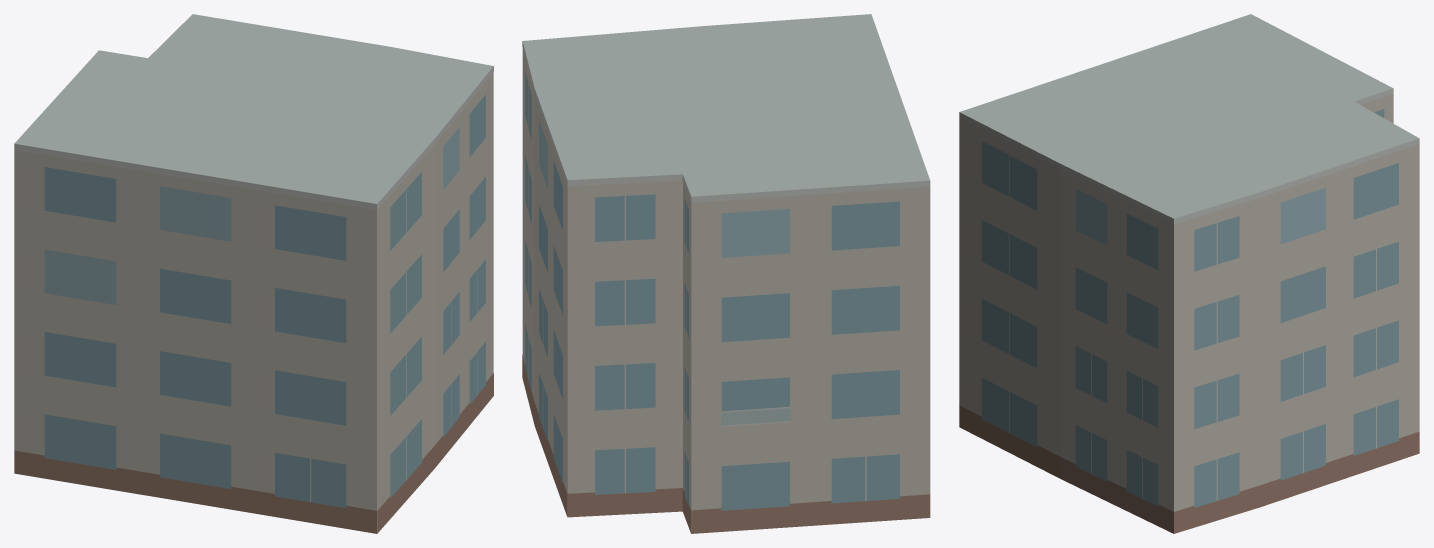
Rendered from survey-upis-32858250.glb.
3 renders of one model, left to right at view 1: azimuth 30°, elevation 25°; view 2: azimuth 150°, elevation 25°; view 3: azimuth 270°, elevation 25°, orthographic. The views are drawn at different scales.
Visible parts, largest first — view 1: survey-upis-32858250.tmp; view 2: survey-upis-32858250.tmp; view 3: survey-upis-32858250.tmp.
Boxes of the visible parts, bbox=[...] form: survey-upis-32858250.tmp: bbox=[14, 14, 493, 533]; survey-upis-32858250.tmp: bbox=[522, 14, 930, 533]; survey-upis-32858250.tmp: bbox=[959, 14, 1419, 533].
Size of the model in its own units: 18.96 by 13.6 by 18.01.
